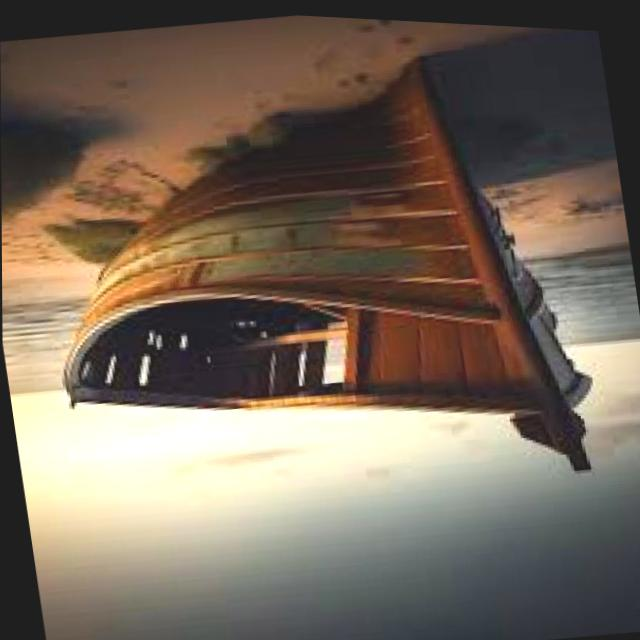ship2: (62, 54, 593, 465)
